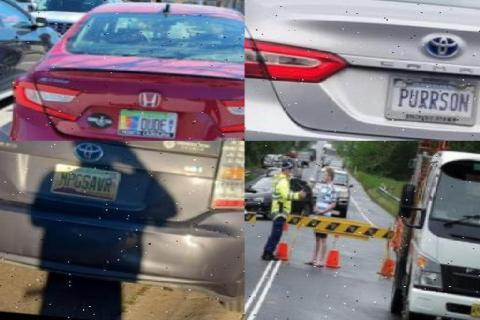LicensePlate: (379, 72, 478, 124), (46, 161, 117, 200), (113, 107, 175, 137), (468, 303, 478, 316)
